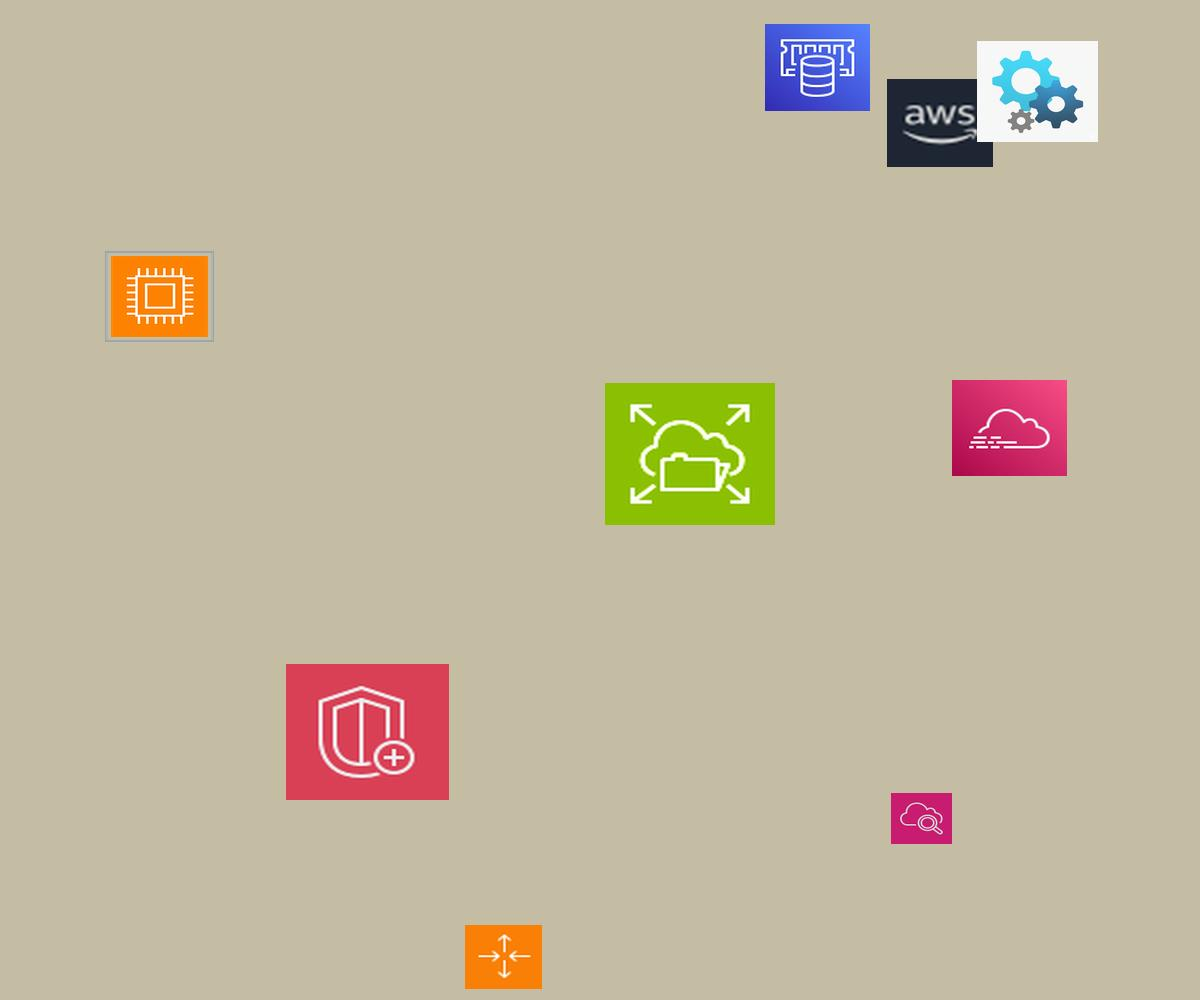AWS-Category_Compute: (105, 251, 214, 342)
AWS-Cloud-logo: (887, 79, 993, 167)
AWS-CloudTrail: (952, 380, 1067, 476)
AWS-CloudWatch: (891, 793, 952, 844)
AWS-EFS: (605, 383, 775, 525)
AWS-ElastiCache: (765, 24, 870, 111)
AWS-Scaling-group: (465, 925, 542, 989)
AWS-Shield: (286, 664, 449, 800)
Azure_api: (977, 41, 1098, 142)
